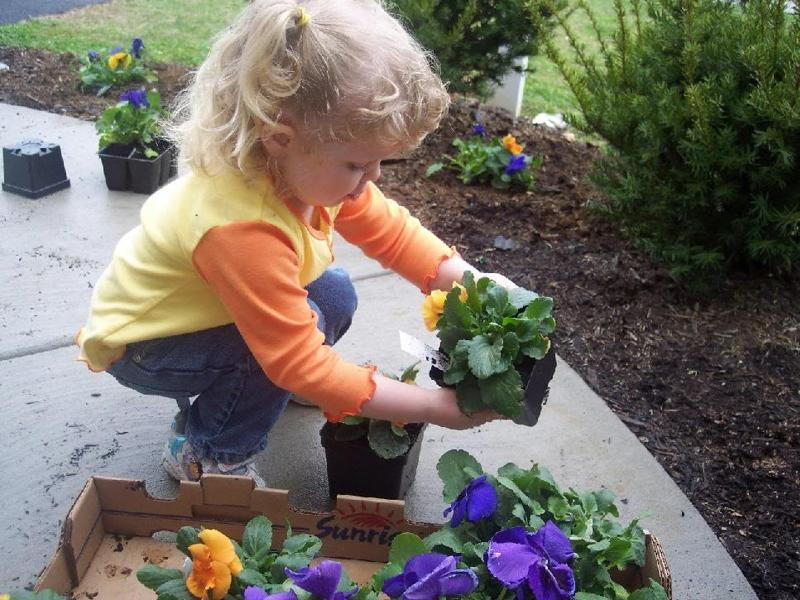person: (73, 2, 530, 497)
